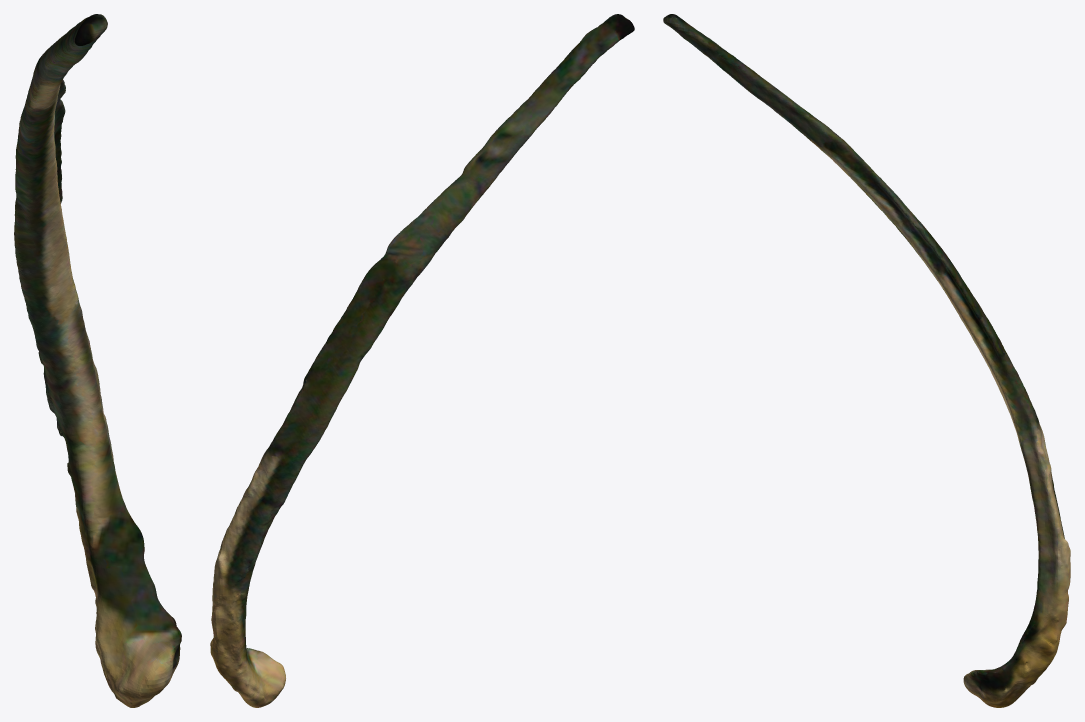
Rendered from 6r_ribs.glb.
The picture shows the model from 3 angles, left to right: view 1: azimuth 30°, elevation 25°; view 2: azimuth 150°, elevation 25°; view 3: azimuth 270°, elevation 25°; orthographic projection. The views are drawn at different scales.
Parts seen in each view (by area): view 1: Node; view 2: Node; view 3: Node.
Part boxes in pixels (<box>): Node: <box>14,14,181,707</box>; Node: <box>210,14,634,707</box>; Node: <box>663,14,1070,707</box>.
Bounding box in the file's own units: 28.22 × 70.1 × 43.08.
Materials: 1 (1 with a texture image).
